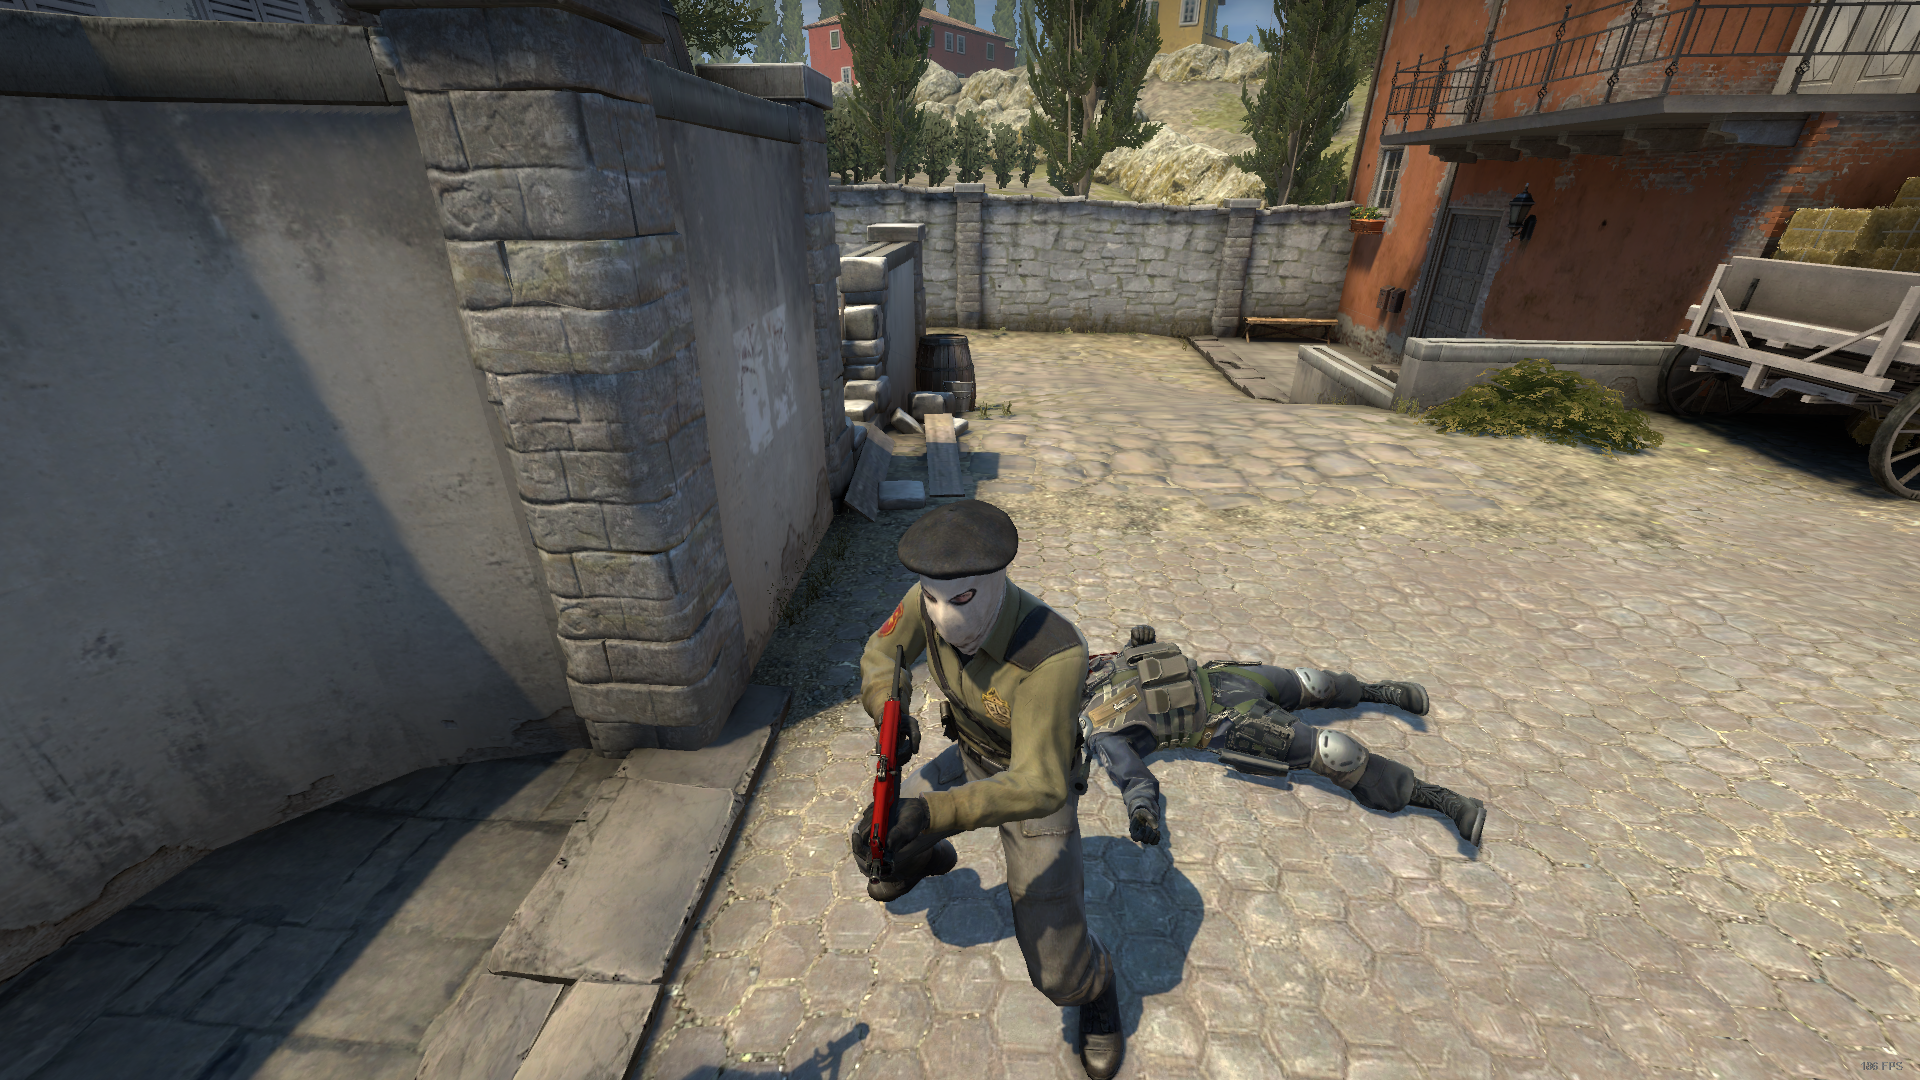t: (855, 501, 1127, 1080)
